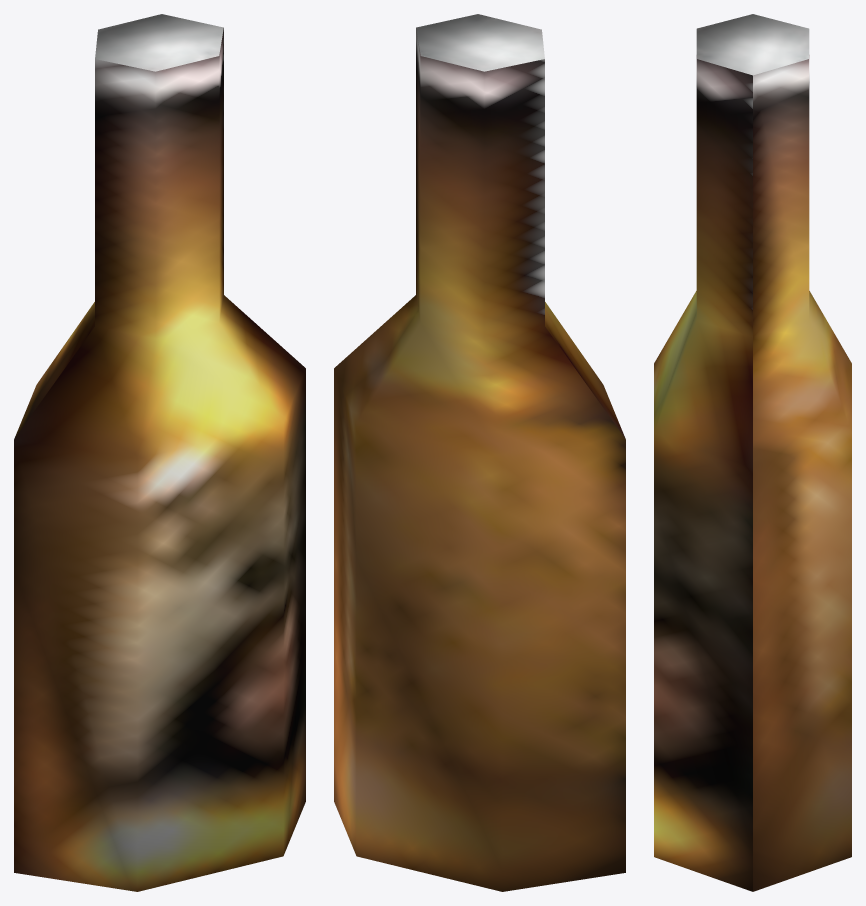
File: Gamma_gulp.obj
The picture shows the model from 3 angles, left to right: view 1: azimuth 30°, elevation 25°; view 2: azimuth 150°, elevation 25°; view 3: azimuth 270°, elevation 25°; orthographic projection. The views are drawn at different scales.
Visible parts, largest first — view 1: cylinder1; view 2: cylinder1; view 3: cylinder1.
Part boxes in pixels (box(x1,y1,x2,y2)): cylinder1: box(14, 14, 305, 891); cylinder1: box(334, 14, 625, 891); cylinder1: box(654, 14, 851, 891).
Bounding box in the file's own units: 2 × 5.2 × 1.2.
Materials: 1 (1 with a texture image).
